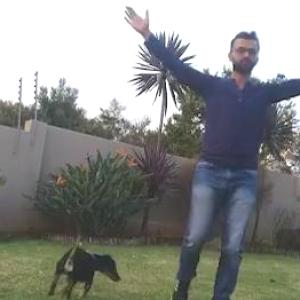takeoff: (129, 7, 299, 299)
